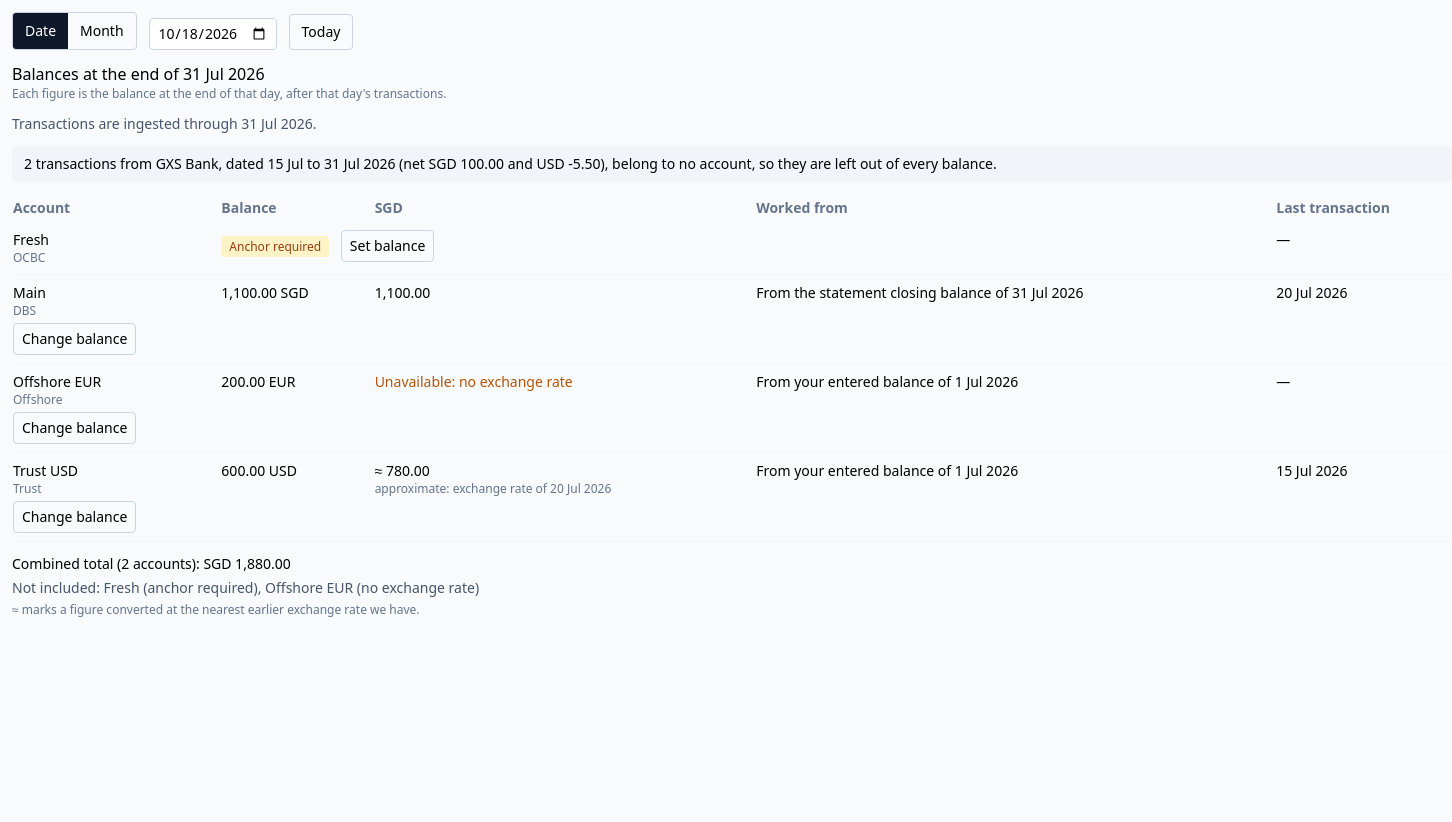
Test: BalanceLookup › the first question › does NOT retry for a date the owner chose
Type "2026-05-02" into the date field with test id "lookup-date-input" at x=213, y=34, box [149,18,277,50]
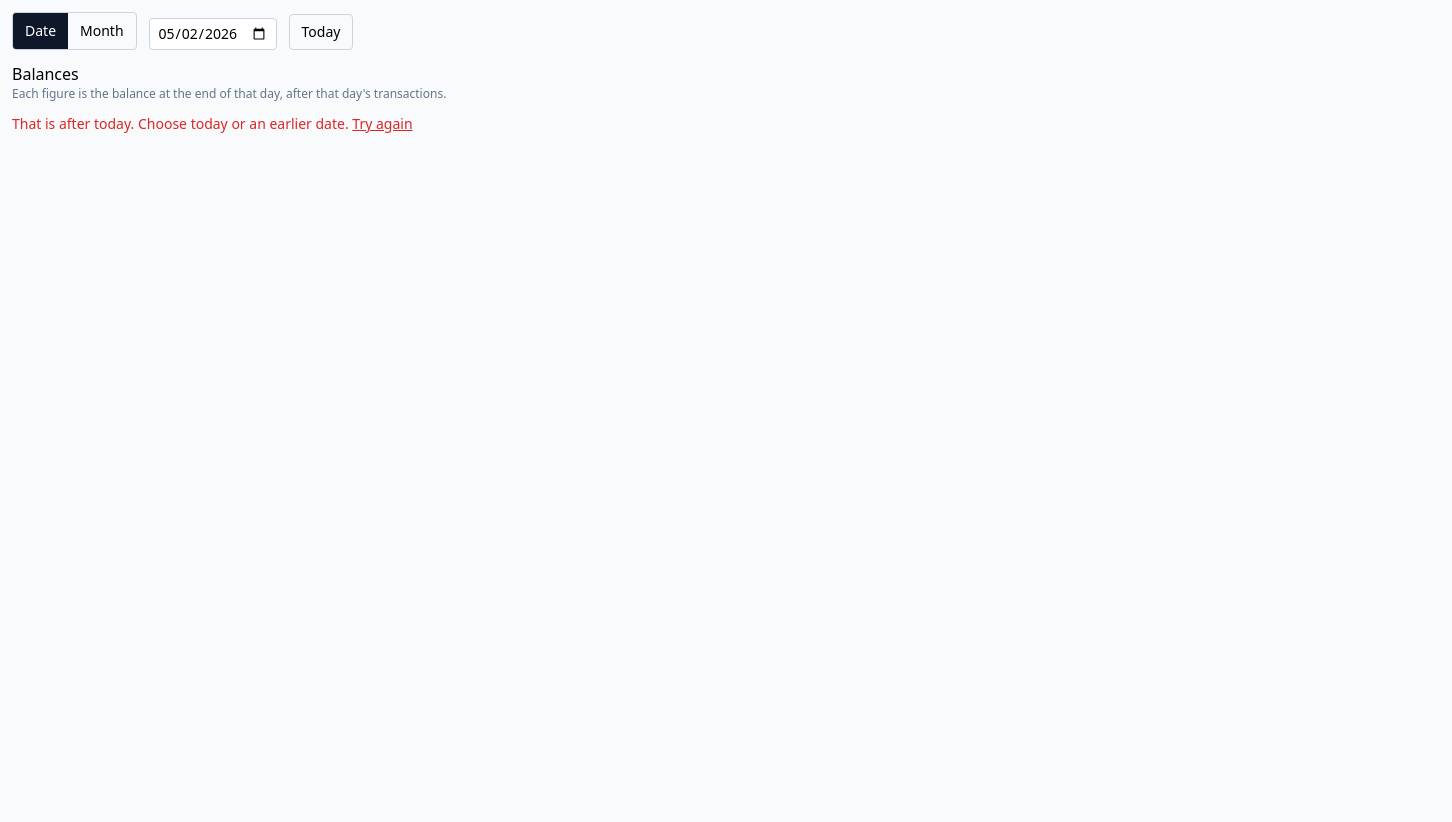
expect the message "That is after today. Choose today or an earlier date. Try again" is shown: met, box [12,114,412,134]
